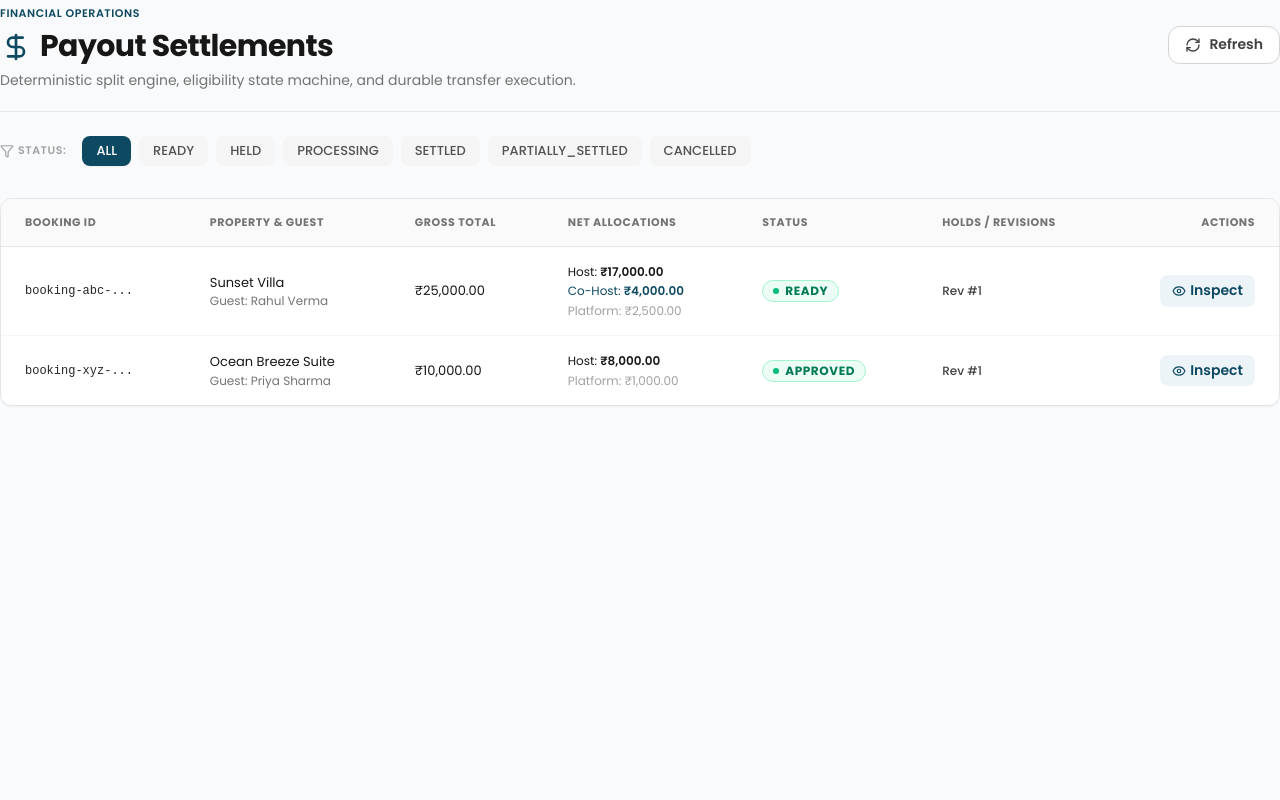
it: Admin Settlements Inspect Regression Suite › D. Missing required data prevents financial actions and shows helpful error
The image size is (1280, 800).
Check: the text "booking-abc-..." is shown, box [25,284,133,298]
Click the button "Inspect" in the row of "booking-abc-" at (1208, 291), box [1160,275,1255,307]
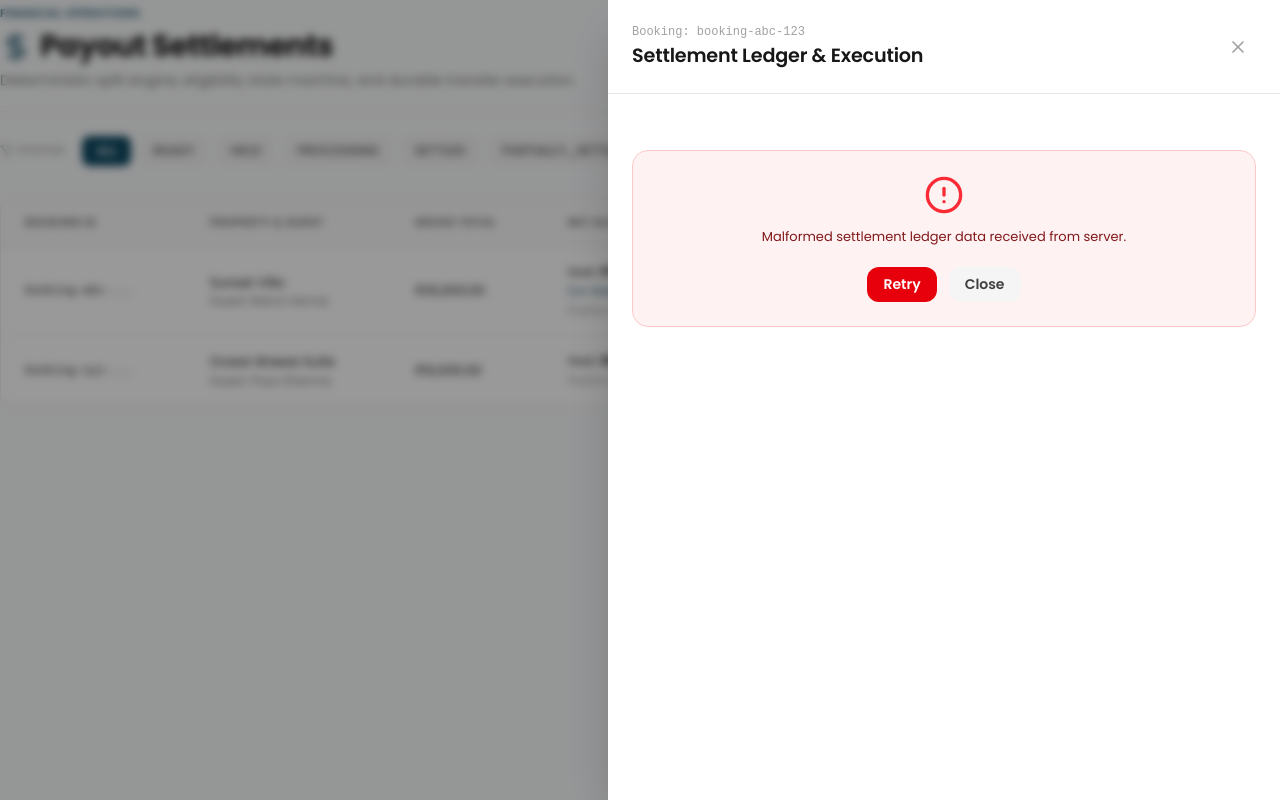
Check: the text "Malformed settlement ledger data received from server." is shown, box [762,227,1126,246]
